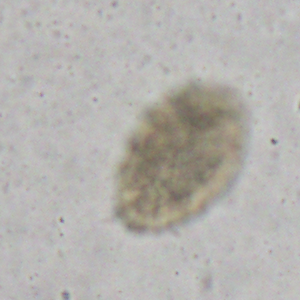Fasciola_hepatica_egg: (111, 79, 251, 234)
